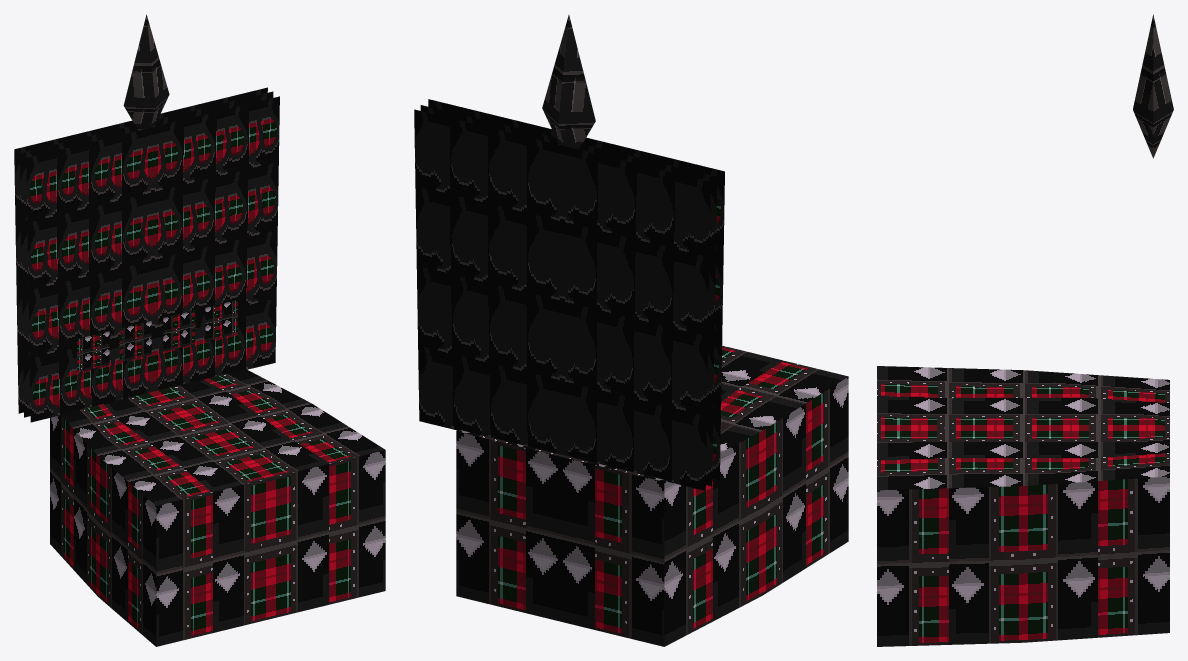
The model's file is 3834kg3_ser15.gltf.
3 renders of one model, left to right at view 1: azimuth 30°, elevation 25°; view 2: azimuth 150°, elevation 25°; view 3: azimuth 270°, elevation 25°, orthographic. The views are drawn at different scales.
Visible parts, largest first — view 1: 3834kg3_ser15; view 2: 3834kg3_ser15; view 3: 3834kg3_ser15.
Boxes of the visible parts, <box> form: 3834kg3_ser15: <box>14,14,385,646</box>; 3834kg3_ser15: <box>414,15,848,646</box>; 3834kg3_ser15: <box>877,14,1173,646</box>.
Size of the model in its own units: 0.8281 by 1.6 by 0.7559.
4 materials, 4 textured.
